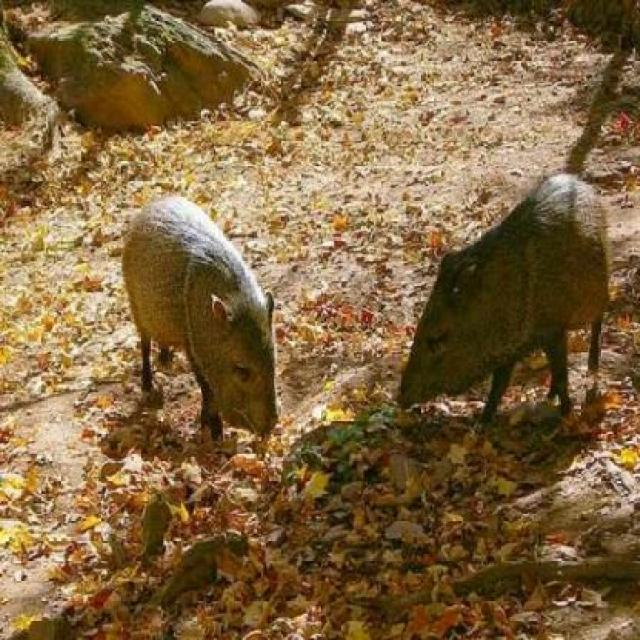Boar: (394, 178, 631, 464), (111, 178, 311, 454)
